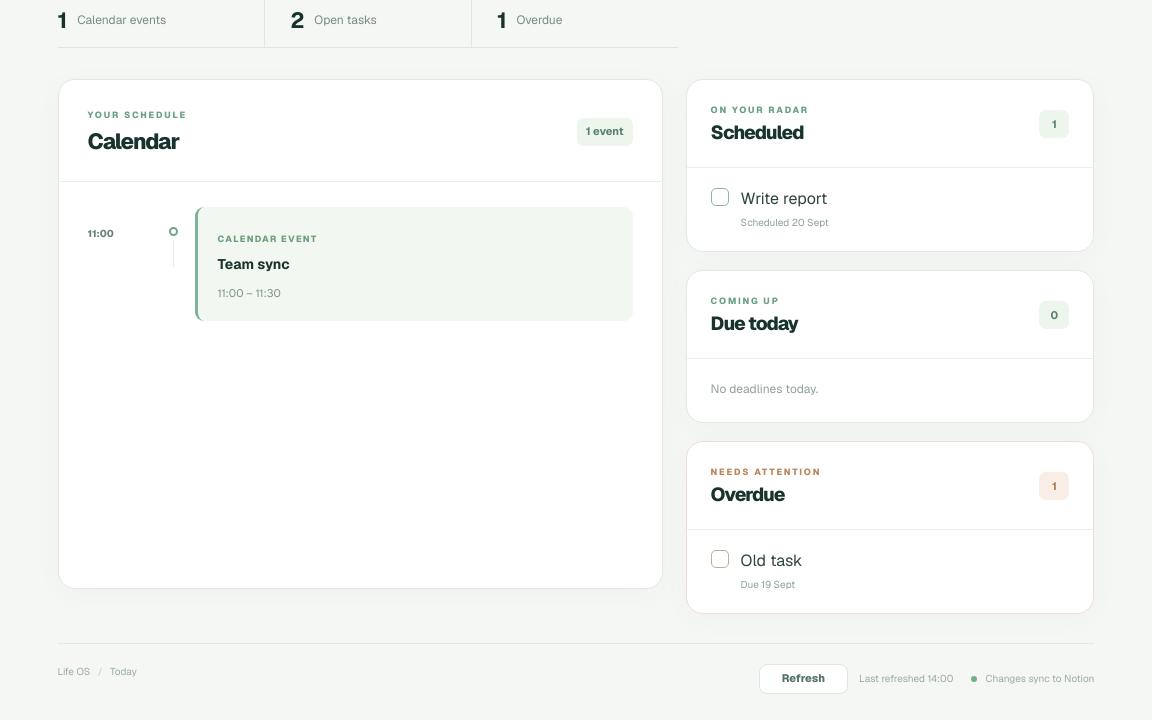
Test case: Dashboard refresh › keeps previous data and reports a failed refresh
(page scrolled)
Click the button "Refresh": click(803, 679) [759, 664, 848, 694]
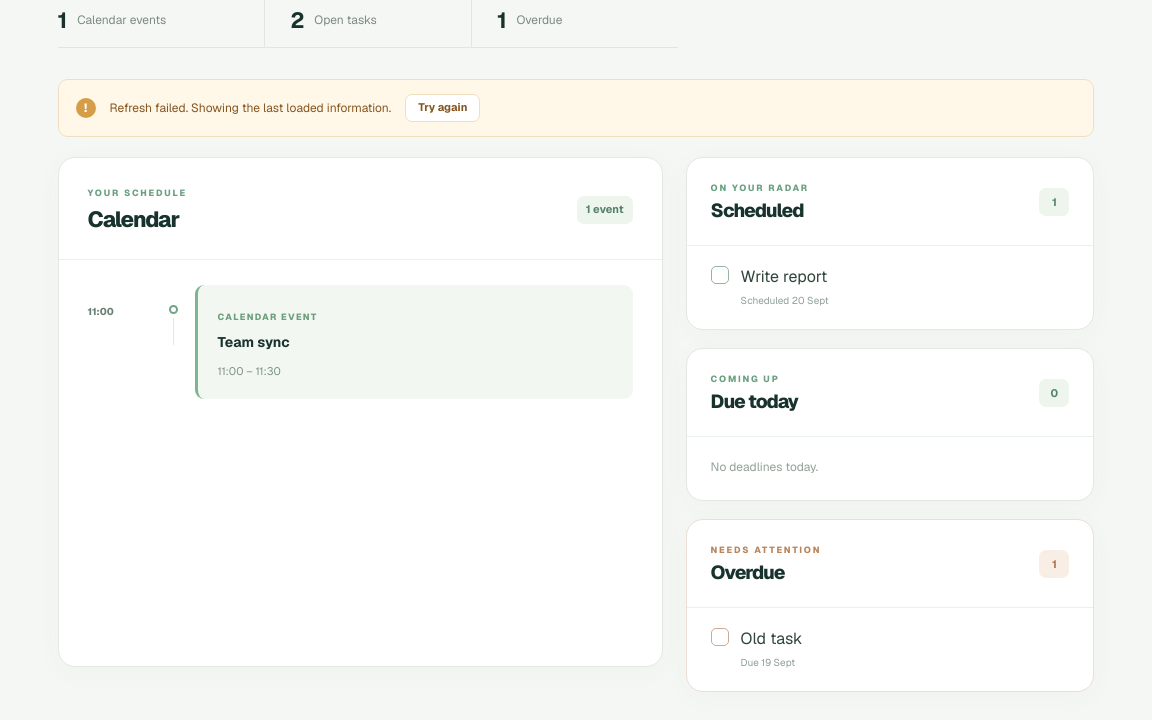
Expected: the button "Write report" is shown, [741, 265, 829, 289]
Result: the text "Refresh failed. Showing the last loaded information." is shown at [110, 99, 391, 117]
Result: the button "Try again" is shown at [405, 94, 480, 122]
